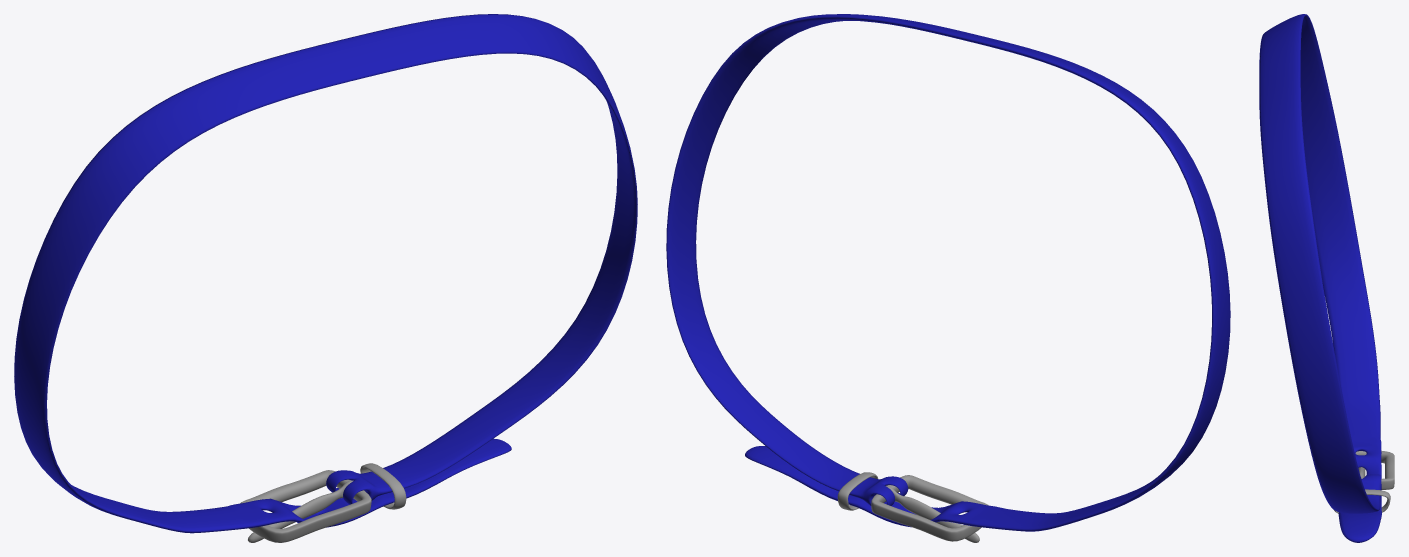
The model's file is 10143_MansBelt_v02_L3.obj.
3 renders of one model, left to right at view 1: azimuth 30°, elevation 25°; view 2: azimuth 150°, elevation 25°; view 3: azimuth 270°, elevation 25°, orthographic. The views are drawn at different scales.
Parts seen in each view (by area): view 1: 10143_MansBelt_Belt_v02, 10143_MansBelt_Buckle_v02; view 2: 10143_MansBelt_Belt_v02, 10143_MansBelt_Buckle_v02; view 3: 10143_MansBelt_Belt_v02, 10143_MansBelt_Buckle_v02.
Part boxes in pixels (x1,y1,x2,y2): 10143_MansBelt_Belt_v02: (14,14,637,533); 10143_MansBelt_Buckle_v02: (240,463,406,542); 10143_MansBelt_Belt_v02: (666,14,1230,531); 10143_MansBelt_Buckle_v02: (837,472,988,542); 10143_MansBelt_Belt_v02: (1259,14,1381,542); 10143_MansBelt_Buckle_v02: (1334,450,1394,513).
Size of the model in its own units: 28.07 by 23.01 by 6.68.
